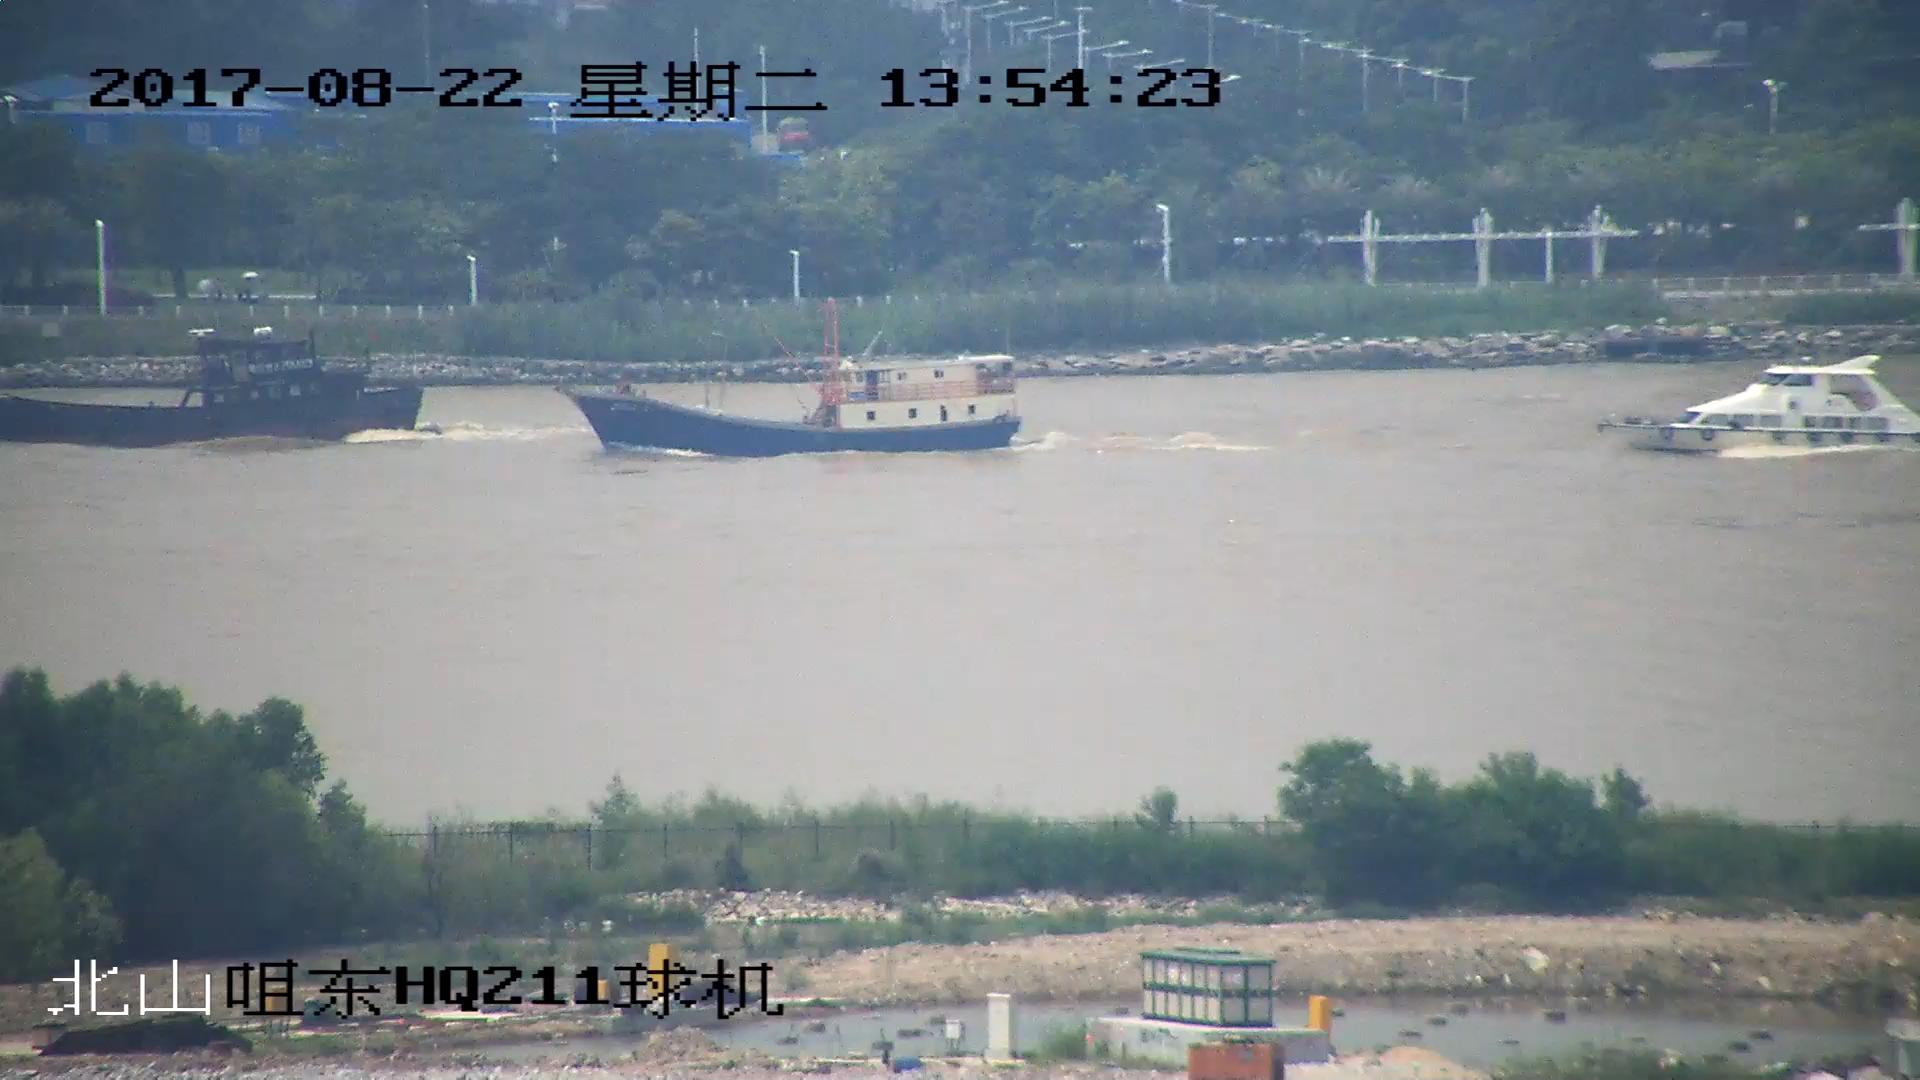fishing boat: (568, 329, 1024, 459), (1, 311, 434, 447)
passenger ship: (1604, 355, 1920, 454)
